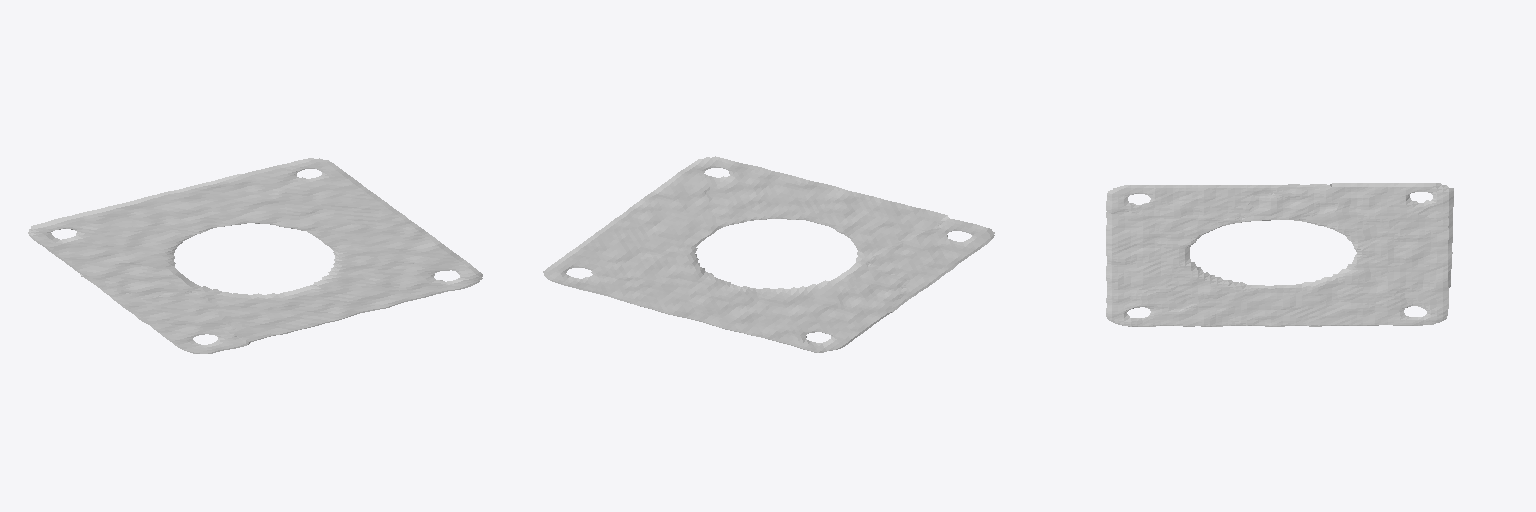
3 renders of one model, left to right at view 1: azimuth 30°, elevation 25°; view 2: azimuth 150°, elevation 25°; view 3: azimuth 270°, elevation 25°, orthographic.
Parts seen in each view (by area): view 1: Piece.003; view 2: Piece.003; view 3: Piece.003.
Part boxes in pixels (bbox=[...]): Piece.003: bbox=[28, 158, 482, 353]; Piece.003: bbox=[543, 156, 994, 352]; Piece.003: bbox=[1106, 183, 1453, 326].
Size of the model in its own units: 2.48 by 0.0621 by 2.49.